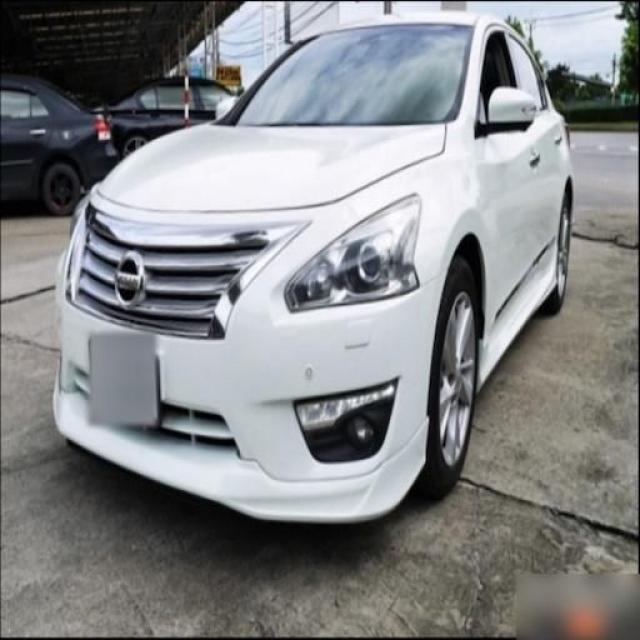back_left_door: (507, 27, 562, 282)
front_bumper: (51, 194, 444, 525)
front_glass: (216, 25, 476, 126)
front_left_door: (472, 23, 541, 339)
front_left_light: (285, 192, 423, 313)
hood: (97, 123, 447, 212)
left_mirror: (488, 86, 536, 135)
wheel: (432, 259, 479, 488), (556, 192, 572, 306)
